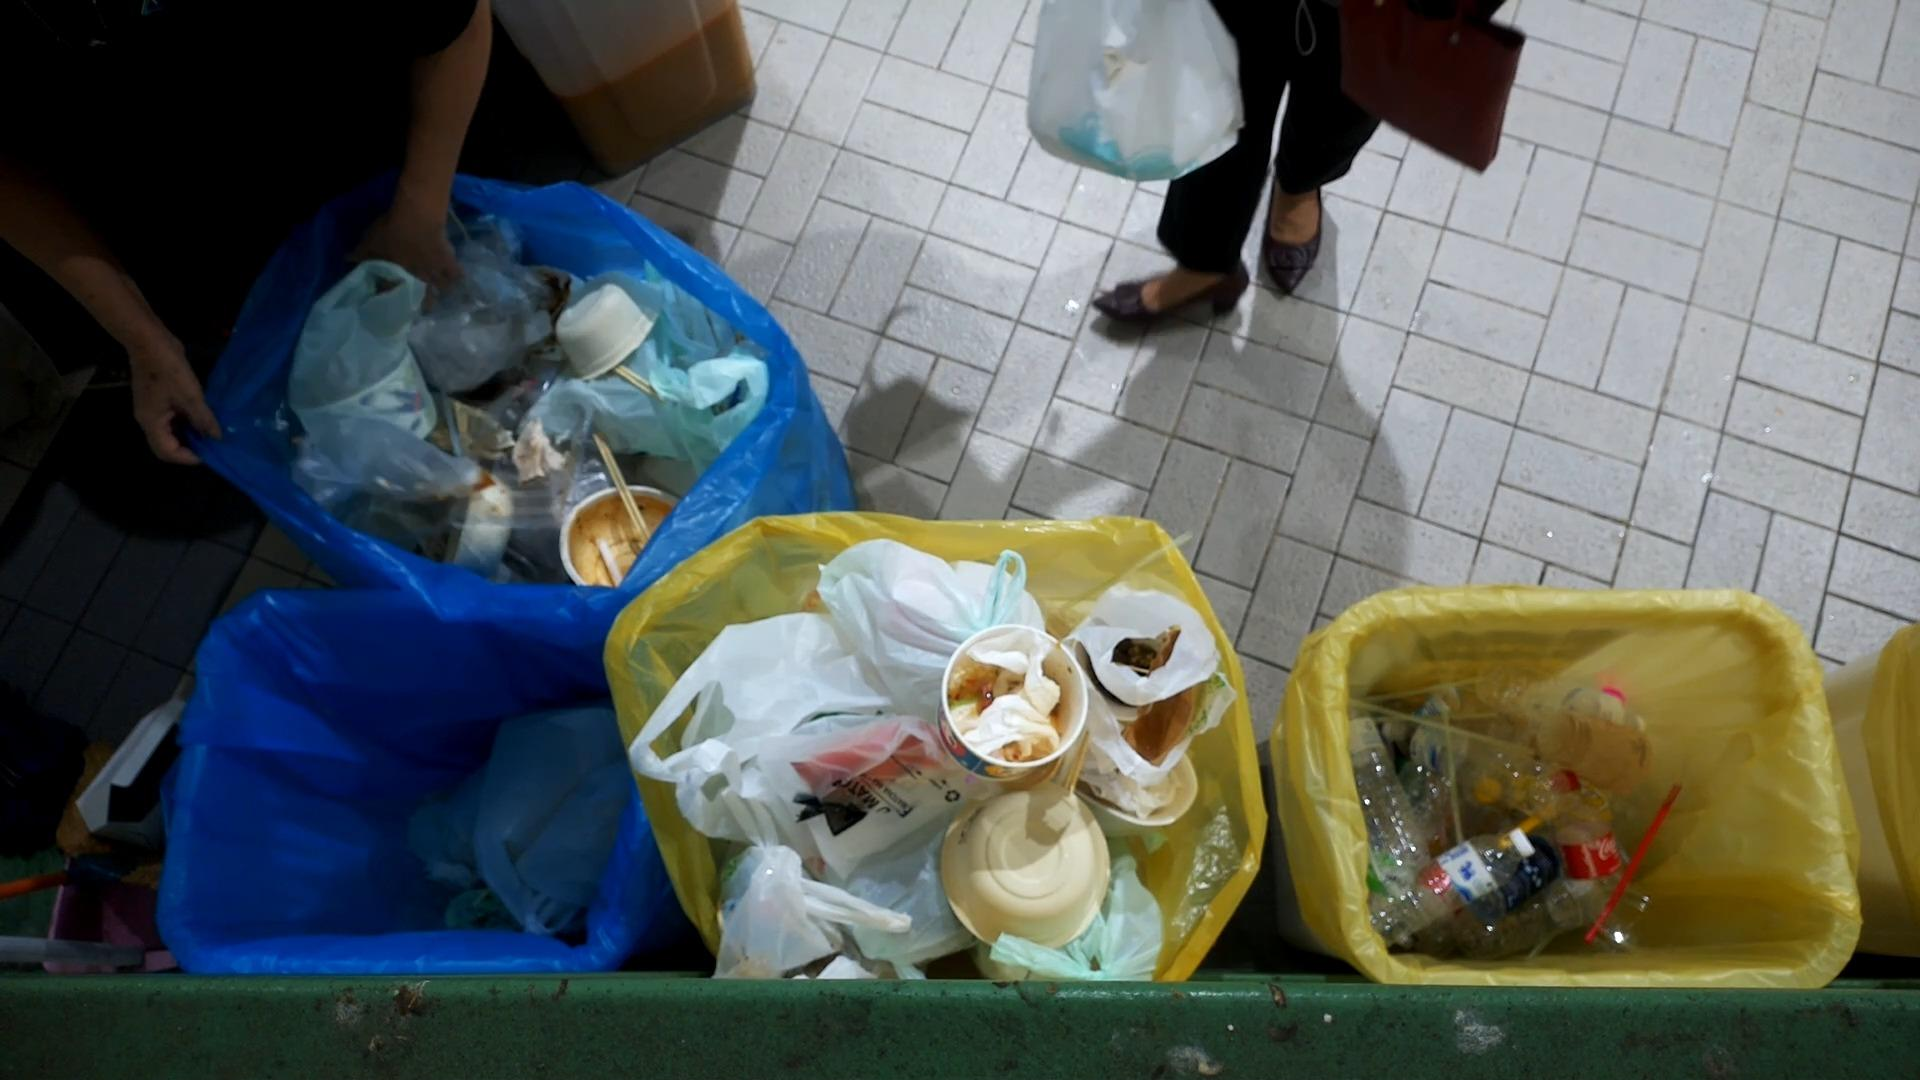dirty food container: (924, 620, 1095, 783)
filled plastic bag: (617, 605, 977, 836), (538, 272, 775, 468), (285, 407, 522, 589), (803, 539, 1048, 712), (278, 257, 455, 455), (1072, 576, 1237, 787), (731, 839, 982, 976), (981, 858, 1174, 990), (400, 241, 558, 396)
food container: (942, 778, 1120, 959), (1068, 732, 1207, 848), (559, 479, 688, 600), (547, 272, 675, 392)
plastic bag: (458, 715, 620, 938)
plastic bottle: (1367, 824, 1542, 951), (1332, 696, 1436, 893), (1549, 765, 1629, 932)
sticks: (584, 429, 657, 550), (608, 363, 665, 402)
straw: (1582, 783, 1687, 955), (1360, 690, 1543, 765), (1423, 690, 1482, 852)
tissue paper: (973, 636, 1065, 758), (509, 413, 575, 485)
